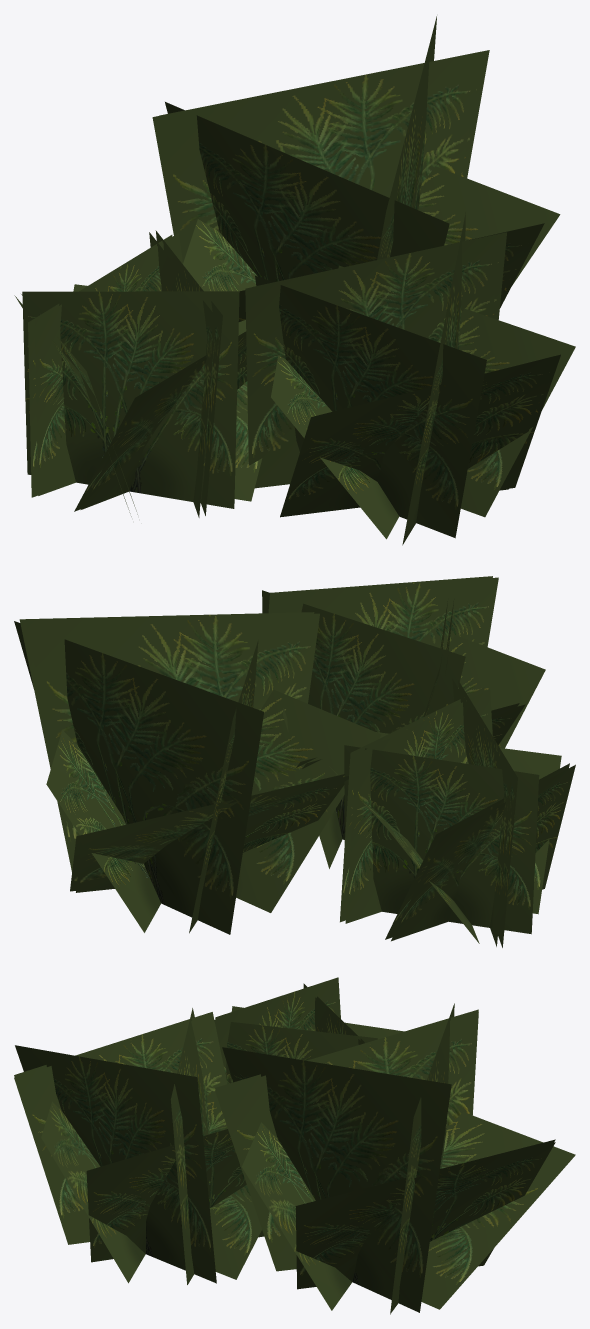
Rendered from GM_guanmu002_002.FBX.
The picture shows the model from 3 angles, top to bottom: view 1: azimuth 30°, elevation 25°; view 2: azimuth 150°, elevation 25°; view 3: azimuth 270°, elevation 25°; orthographic projection. The views are drawn at different scales.
Parts seen in each view (by area): view 1: GM_巴陵灌木002_002; view 2: GM_巴陵灌木002_002; view 3: GM_巴陵灌木002_002.
Boxes of the visible parts, bbox=[...] form: GM_巴陵灌木002_002: bbox=[14, 16, 575, 545]; GM_巴陵灌木002_002: bbox=[14, 576, 575, 947]; GM_巴陵灌木002_002: bbox=[14, 977, 575, 1314].
Size of the model in its own units: 264 by 143 by 296.
